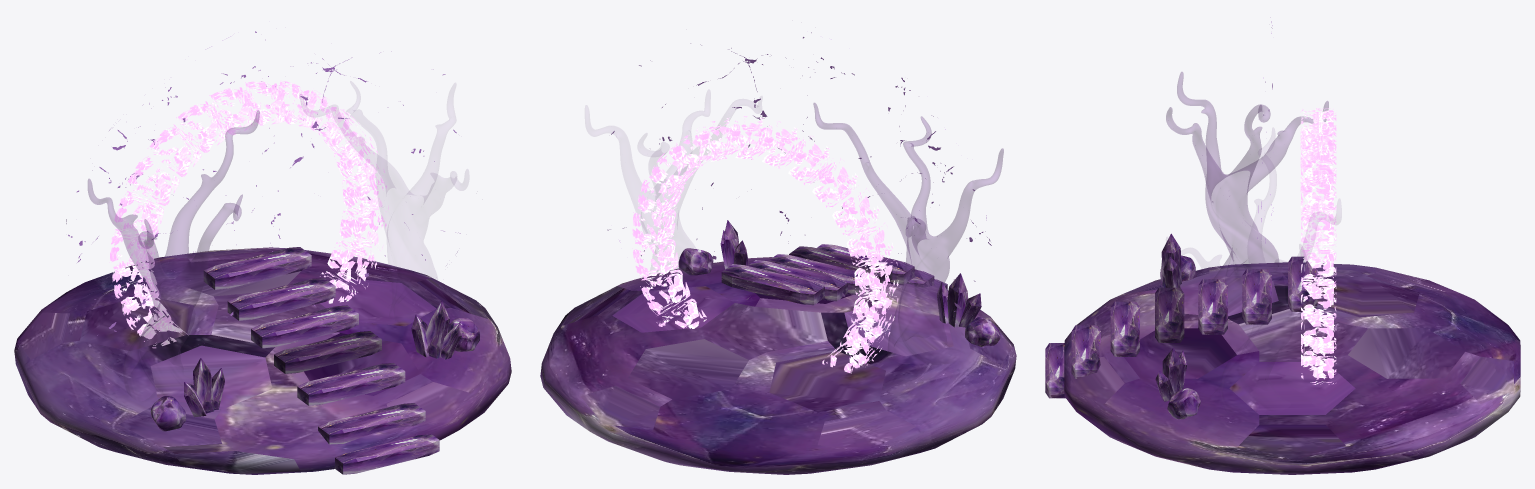
File: Mana_Fantasy_Teamed_Portal.glb
3 views of the same model, side by side, from view 1: azimuth 30°, elevation 25°; view 2: azimuth 150°, elevation 25°; view 3: azimuth 270°, elevation 25° (orthographic). The views are drawn at different scales.
Parts seen in each view (by area): view 1: Object_6, Object_4, Object_27, Object_10, Object_16, Object_8, Object_14, Object_18, Object_32, Object_38, Object_42, Object_22; view 2: Object_6, Object_4, Object_27, Object_10, Object_8, Object_32, Object_14, Object_16, Object_38, Object_42; view 3: Object_6, Object_27, Object_4, Object_10, Object_14, Object_16, Object_18, Object_8, Object_32, Object_22.
Boxes of the visible parts, x1=… form: Object_6: x1=14, y1=247, x2=511, y2=474; Object_4: x1=109, y1=80, x2=388, y2=348; Object_27: x1=88, y1=110, x2=259, y2=400; Object_10: x1=227, y1=278, x2=479, y2=474; Object_16: x1=297, y1=363, x2=405, y2=405; Object_8: x1=203, y1=247, x2=311, y2=289; Object_14: x1=274, y1=331, x2=381, y2=373; Object_18: x1=318, y1=403, x2=425, y2=444; Object_32: x1=184, y1=358, x2=224, y2=417; Object_38: x1=150, y1=396, x2=186, y2=431; Object_42: x1=66, y1=31, x2=460, y2=335; Object_22: x1=331, y1=106, x2=456, y2=315; Object_6: x1=540, y1=257, x2=1016, y2=474; Object_4: x1=632, y1=116, x2=898, y2=373; Object_27: x1=813, y1=103, x2=1003, y2=364; Object_10: x1=678, y1=220, x2=947, y2=301; Object_8: x1=721, y1=264, x2=824, y2=305; Object_32: x1=937, y1=273, x2=981, y2=327; Object_14: x1=789, y1=246, x2=892, y2=284; Object_16: x1=816, y1=244, x2=914, y2=284; Object_38: x1=965, y1=317, x2=1000, y2=346; Object_42: x1=607, y1=32, x2=991, y2=315; Object_6: x1=1064, y1=262, x2=1520, y2=474; Object_27: x1=1166, y1=72, x2=1328, y2=289; Object_4: x1=1300, y1=108, x2=1336, y2=384; Object_10: x1=1045, y1=269, x2=1271, y2=419; Object_14: x1=1155, y1=287, x2=1184, y2=342; Object_16: x1=1110, y1=301, x2=1139, y2=356; Object_18: x1=1071, y1=325, x2=1100, y2=378; Object_8: x1=1288, y1=256, x2=1317, y2=311; Object_32: x1=1160, y1=233, x2=1181, y2=287; Object_22: x1=1214, y1=152, x2=1306, y2=400.
Size of what is drawn, in the model's own units: 0.3512 by 0.3013 by 0.3544.
12 materials, 12 textured.
